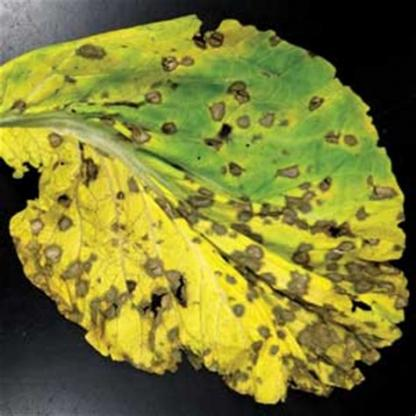black-spot: (205, 224, 373, 358), (202, 66, 328, 222), (38, 53, 197, 156), (26, 211, 159, 281)
